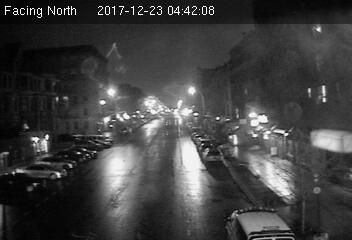car: (203, 147, 225, 163)
police: (226, 206, 299, 240)
